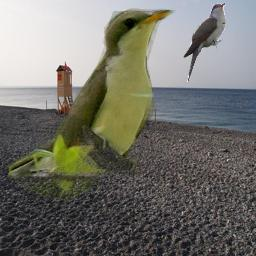Cuckoo: (9, 4, 176, 201), (183, 3, 226, 85)
